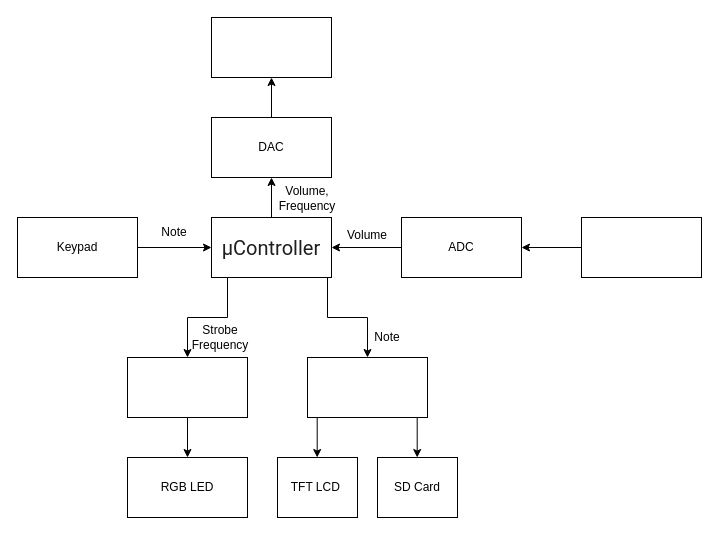
Some shapes in this 719 by 535 pixel diagram are drawn without their labels. The shapes that lost their labels are listed below. From the top down, each one's box as (x1, y1, x2, y2) in pixels, then its label:
(210, 16, 332, 78): Speaker
(580, 216, 702, 278): Potentiometer
(126, 356, 248, 418): PWM
(306, 356, 428, 418): SPI
